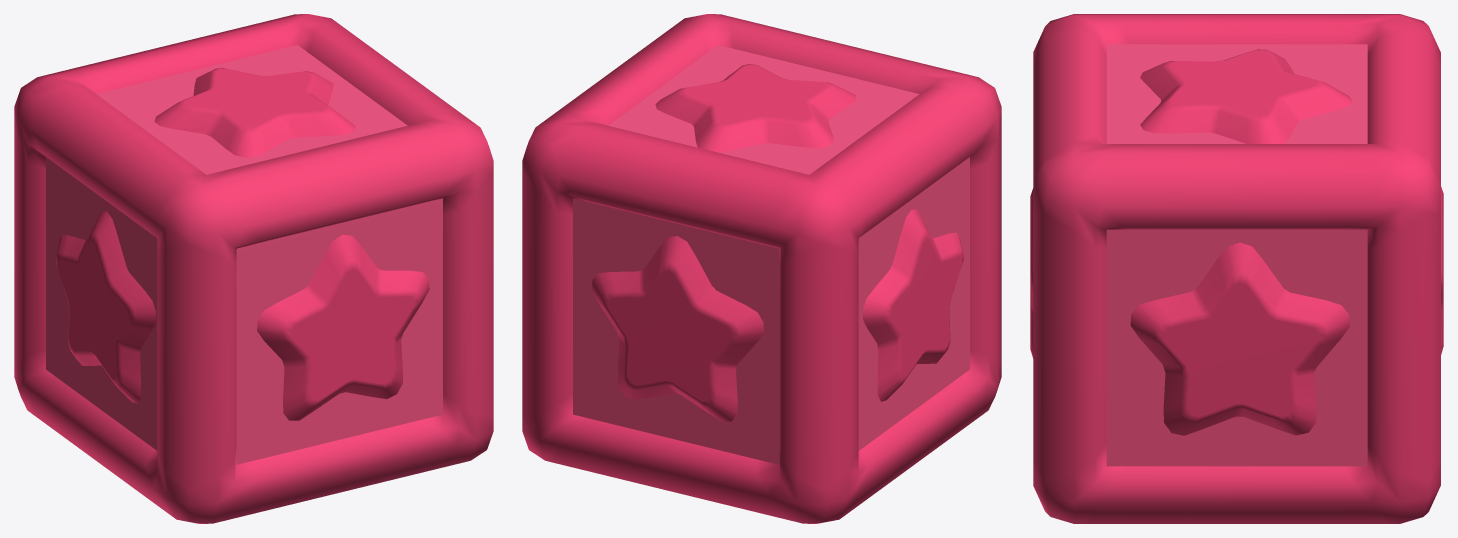
File: Star_Block_Pink.fbx
3 renders of one model, left to right at view 1: azimuth 30°, elevation 25°; view 2: azimuth 150°, elevation 25°; view 3: azimuth 270°, elevation 25°, orthographic. The views are drawn at different scales.
Visible parts, largest first — view 1: Star Block_Pink; view 2: Star Block_Pink; view 3: Star Block_Pink.
Boxes of the visible parts, x1=… form: Star Block_Pink: x1=14, y1=14, x2=493, y2=523; Star Block_Pink: x1=522, y1=14, x2=1001, y2=523; Star Block_Pink: x1=1030, y1=14, x2=1443, y2=523.
Size of the model in its own units: 101 by 101 by 101.
